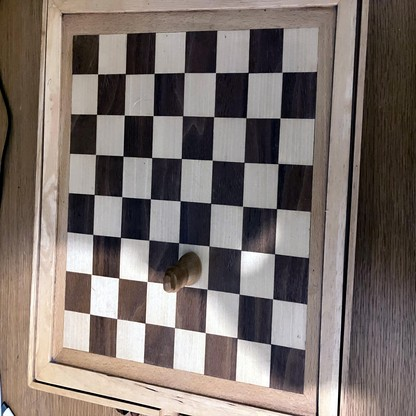king_white: (163, 253, 201, 292)
